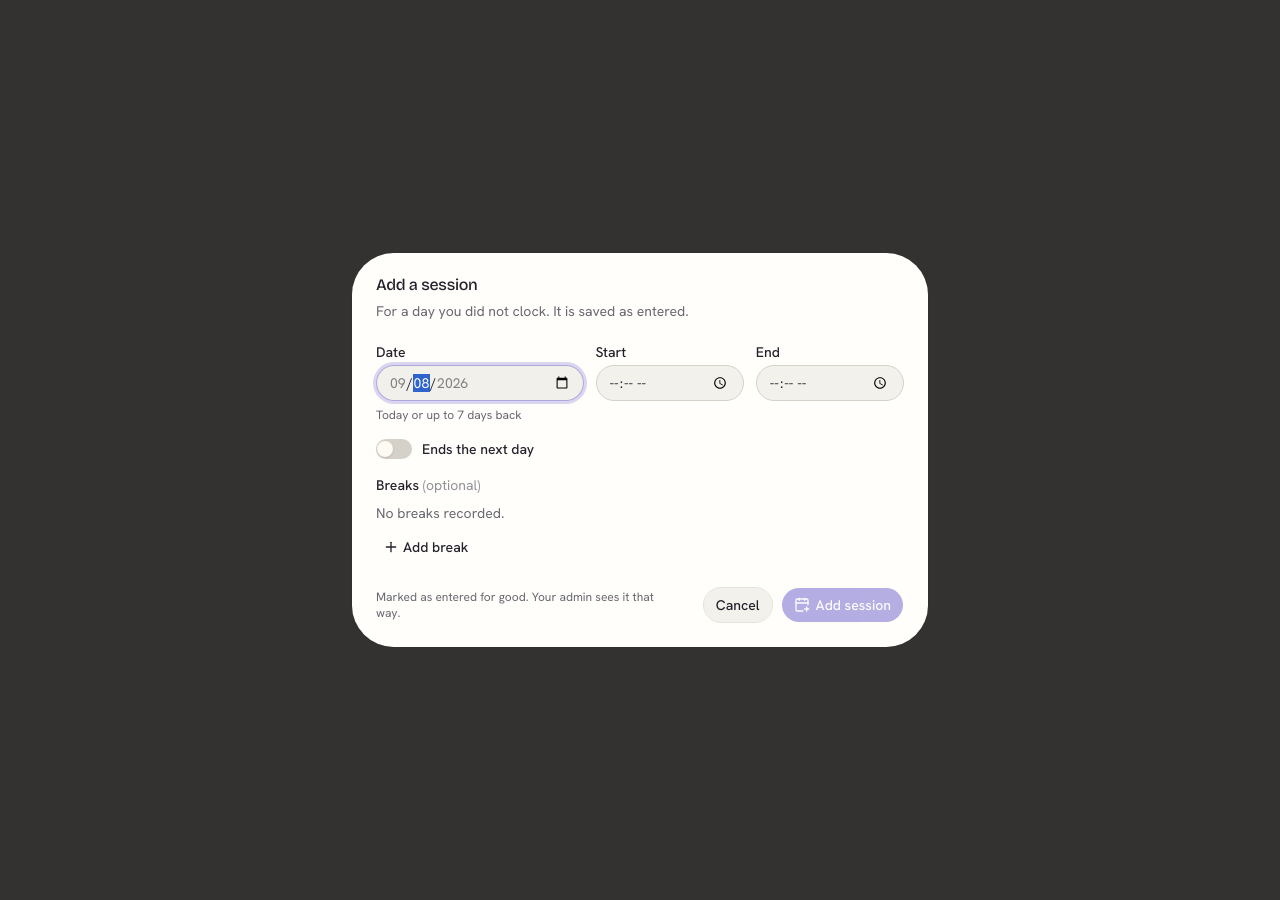
it: EntryDialog › breaks › refuses a break outside the session, naming the session's times
Type "08:10" into the time field labelled "Start".
click(670, 383); type("08:10")  # box left=596, top=365, right=744, bottom=401
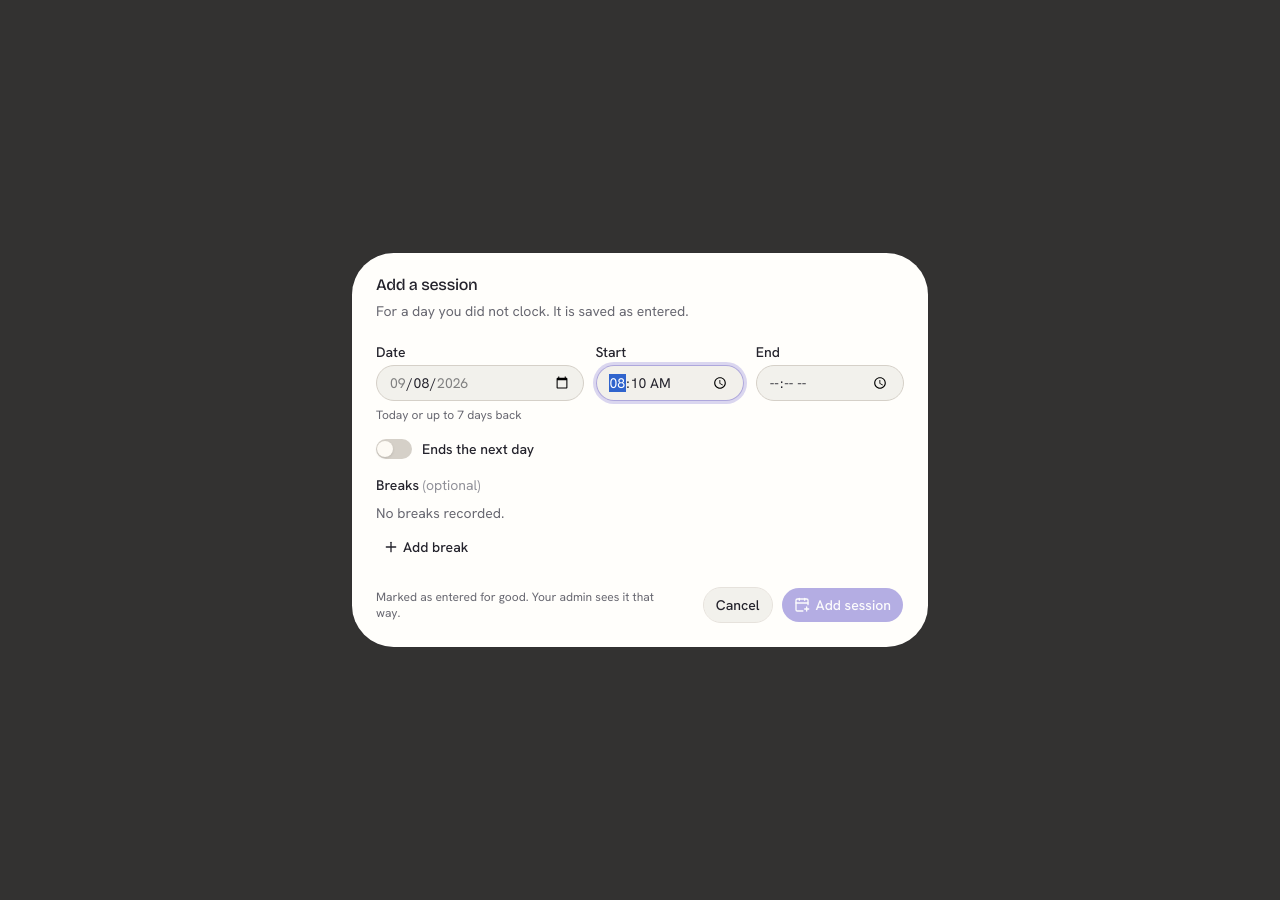
Type "16:55" into the time field labelled "End".
click(830, 383); type("16:55")  # box left=756, top=365, right=904, bottom=401
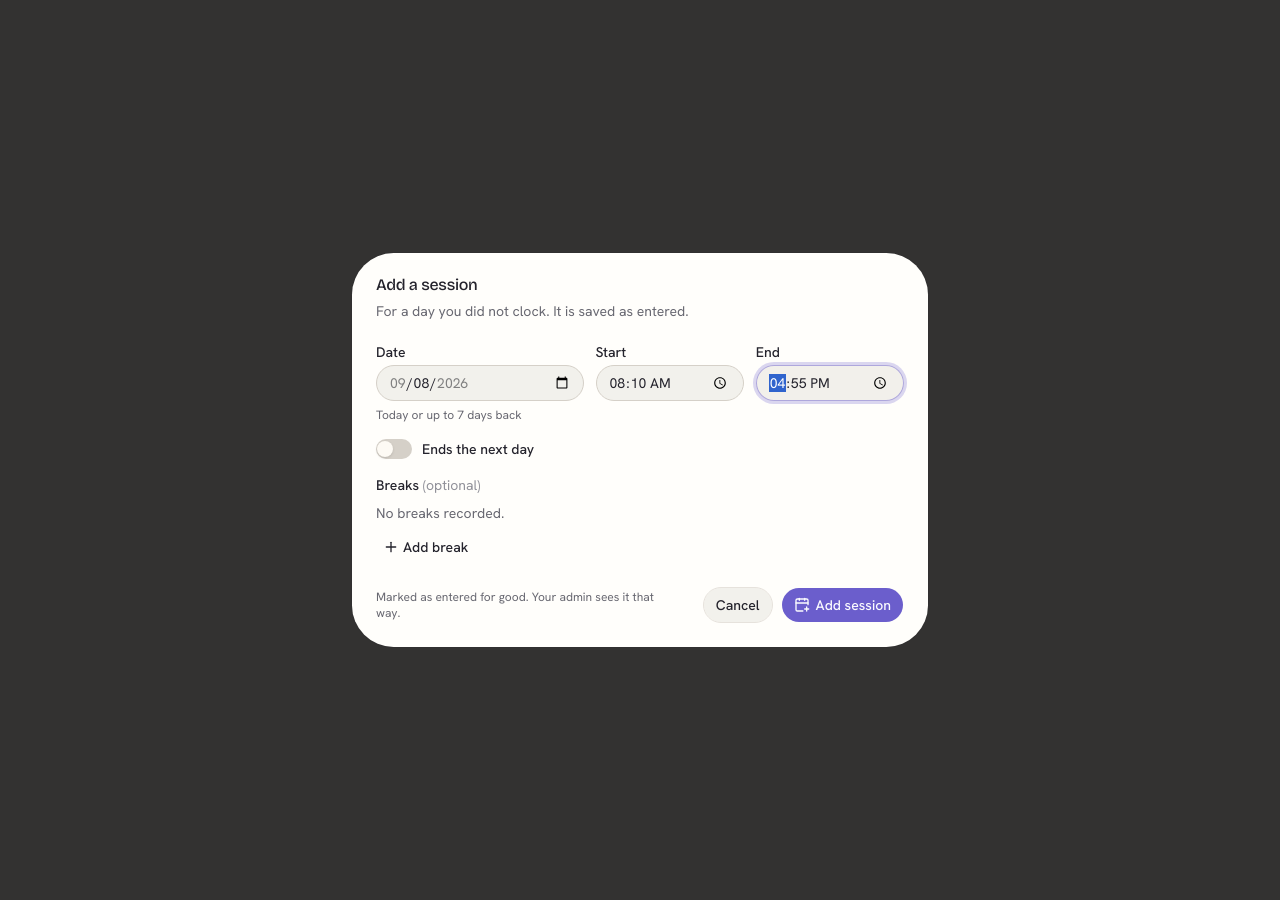
Click the button "Add break".
click(429, 547)  # box left=376, top=531, right=481, bottom=563
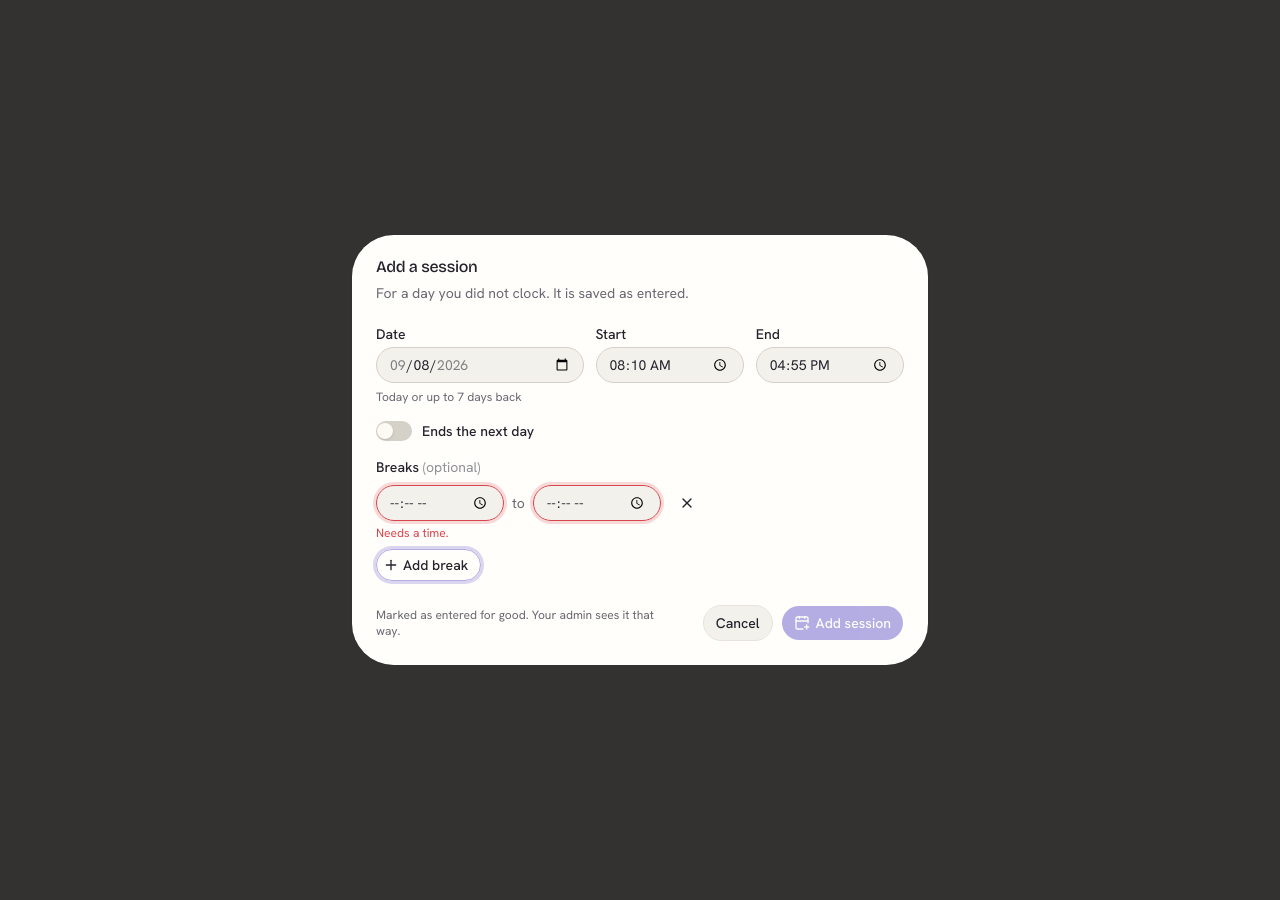
Type "16:45" into the 1st time field named "Breaks".
click(440, 503); type("16:45")  # box left=376, top=485, right=504, bottom=521
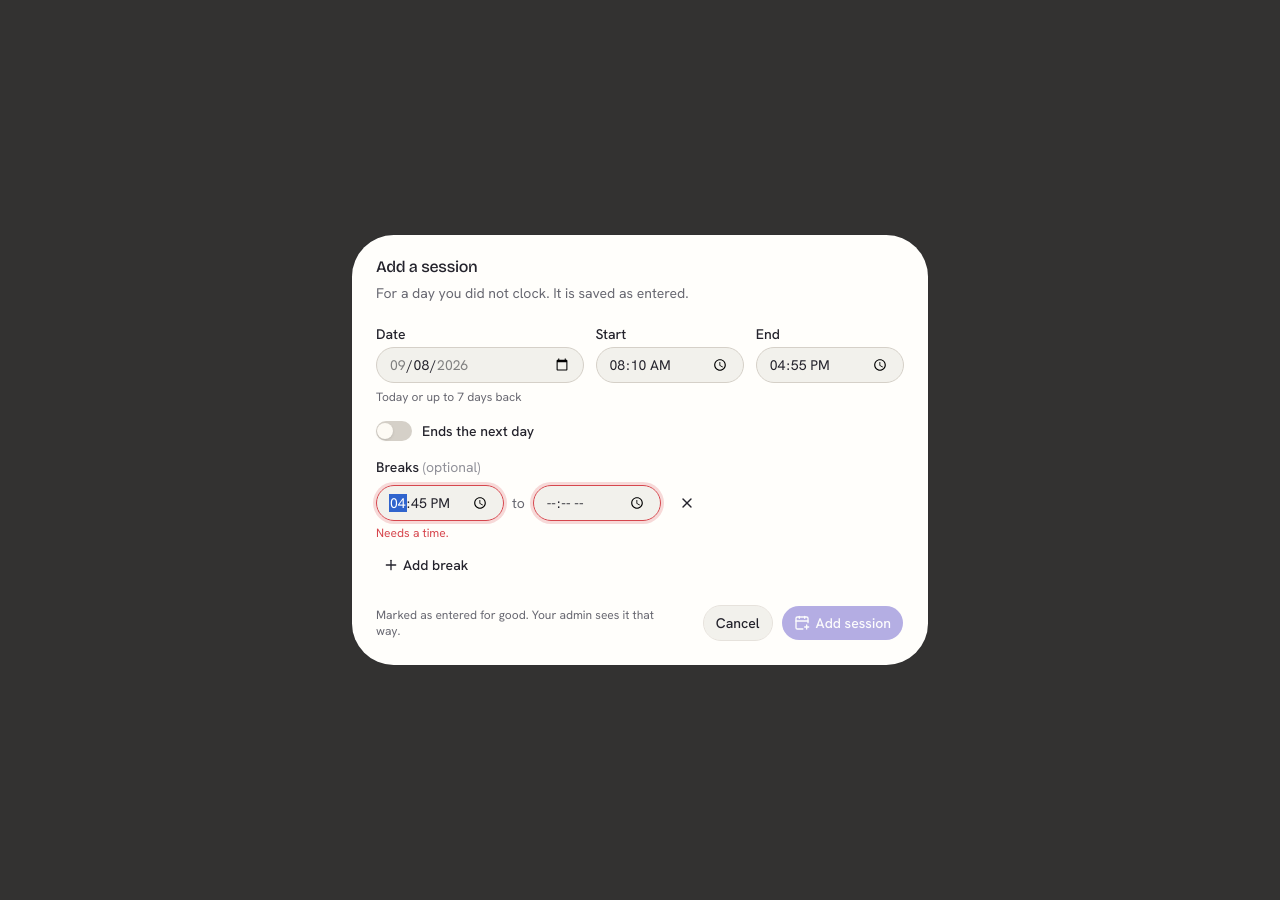
Type "17:15" into the 2nd time field named "to".
click(597, 503); type("17:15")  # box left=533, top=485, right=661, bottom=521
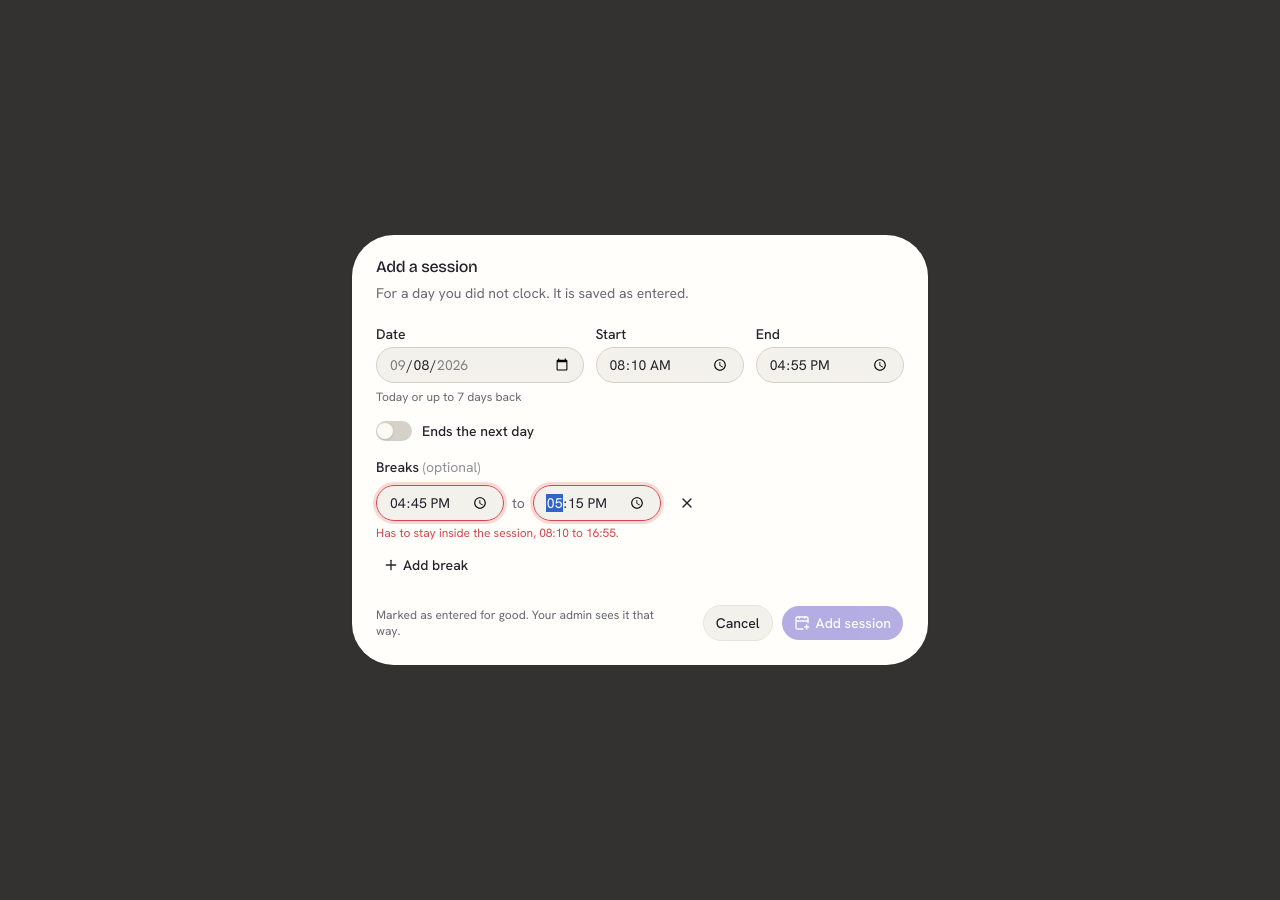
Now the button "Add session" is disabled, box left=781, top=605, right=904, bottom=641
Now the text "Has to stay inside the session, 08:10 to 16:55." is shown, box left=376, top=525, right=619, bottom=541
